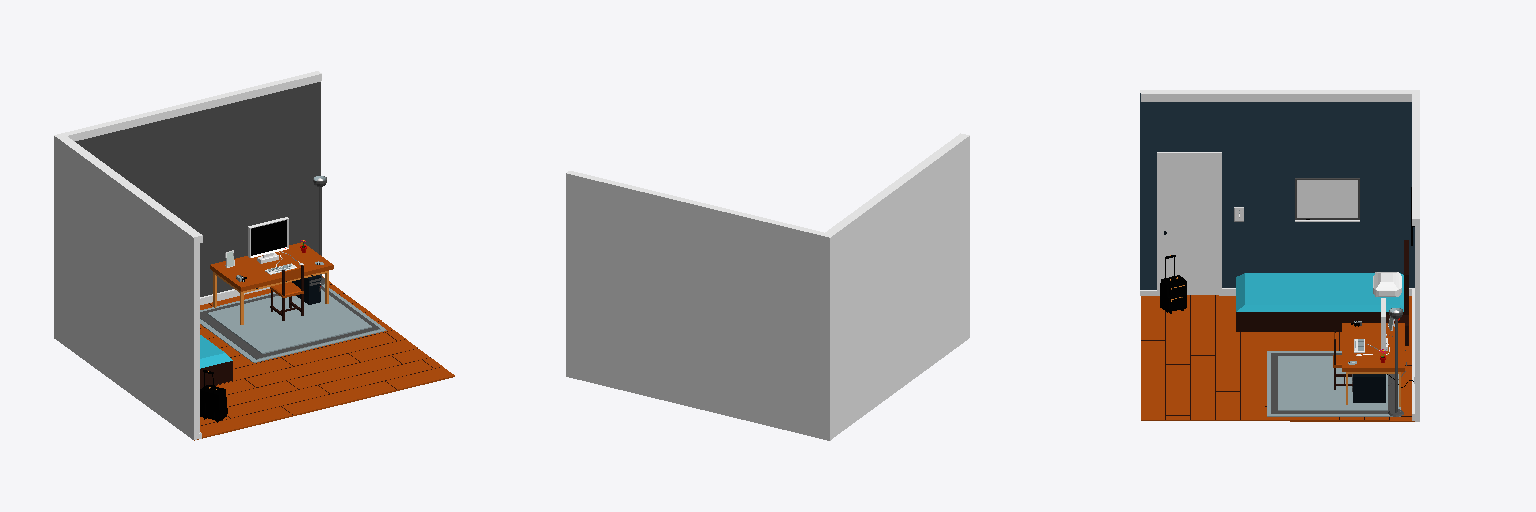
The model's file is habitacion.obj.
The picture shows the model from 3 angles: view 1: azimuth 30°, elevation 25°; view 2: azimuth 150°, elevation 25°; view 3: azimuth 270°, elevation 25°; orthographic projection.
Visible parts, largest first — view 1: model; view 2: model; view 3: model.
Part boxes in pixels (left/top/right/bottom): model: left=54, top=71, right=454, bottom=440; model: left=566, top=133, right=969, bottom=440; model: left=1140, top=90, right=1419, bottom=421.
Size of the model in its own units: 4.04 by 2.97 by 3.71.